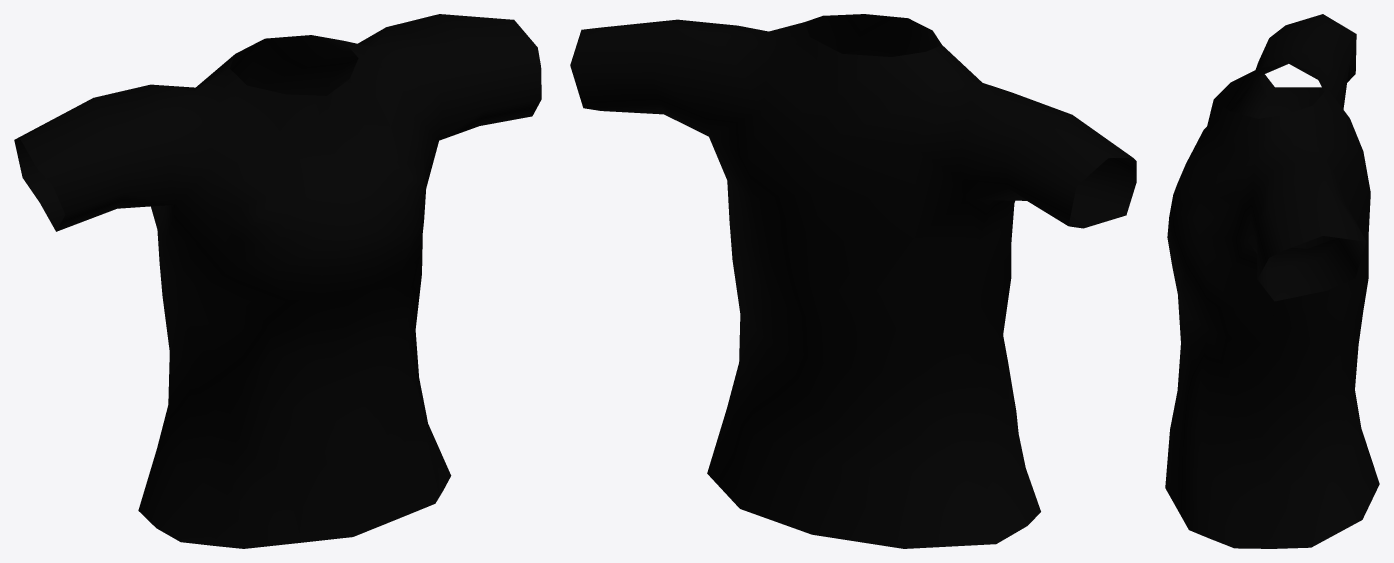
The model's file is Camiseta.glb.
3 views of the same model, side by side, from view 1: azimuth 30°, elevation 25°; view 2: azimuth 150°, elevation 25°; view 3: azimuth 270°, elevation 25° (orthographic). The views are drawn at different scales.
Parts seen in each view (by area): view 1: Camisa curta; view 2: Camisa curta; view 3: Camisa curta.
Boxes of the visible parts, x1,y1,x2,y2 form: Camisa curta: (14, 14, 541, 548); Camisa curta: (570, 14, 1136, 548); Camisa curta: (1165, 14, 1379, 548).
Size of the model in its own units: 0.4625 by 0.3837 by 0.1867.
Materials: 1 (1 with a texture image).
